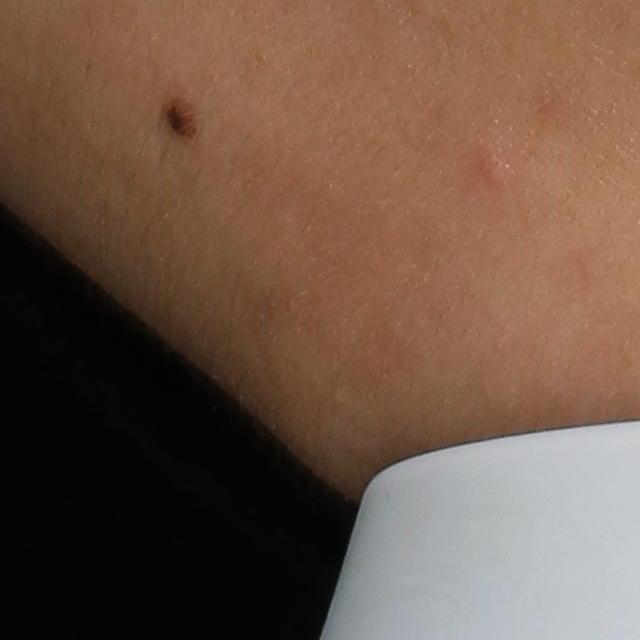nevus: (163, 99, 196, 144)
papule: (476, 151, 510, 190)
